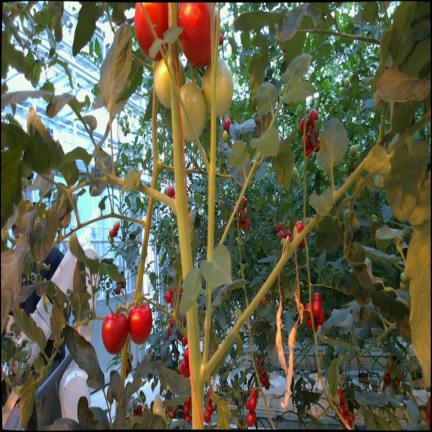6kp_petiole: (188, 318, 243, 418), (142, 171, 189, 242), (152, 145, 173, 188), (127, 209, 153, 241)
MainStem: (171, 78, 193, 282), (134, 197, 155, 302), (187, 301, 204, 430), (151, 85, 160, 190)
tomato: (178, 2, 211, 67), (134, 2, 168, 59), (202, 58, 233, 116), (180, 82, 206, 142), (154, 58, 185, 107), (102, 313, 128, 354), (128, 303, 152, 344), (294, 221, 304, 248), (239, 207, 247, 230), (311, 301, 321, 318), (308, 109, 318, 125), (247, 411, 256, 426), (300, 118, 309, 133), (316, 309, 324, 325), (338, 402, 346, 418), (302, 133, 310, 149), (312, 292, 322, 304), (240, 219, 249, 232), (249, 387, 257, 401), (294, 221, 303, 232), (249, 397, 256, 410), (224, 118, 231, 131), (204, 409, 211, 422), (305, 302, 310, 319), (349, 145, 356, 157), (207, 401, 213, 414), (306, 146, 313, 157), (338, 389, 343, 404), (222, 130, 228, 142), (400, 272, 407, 282), (279, 229, 285, 240), (306, 319, 312, 329), (277, 222, 283, 232), (184, 403, 189, 415), (292, 167, 297, 178), (185, 397, 191, 406), (285, 229, 291, 237), (185, 414, 191, 422), (280, 238, 284, 246)
